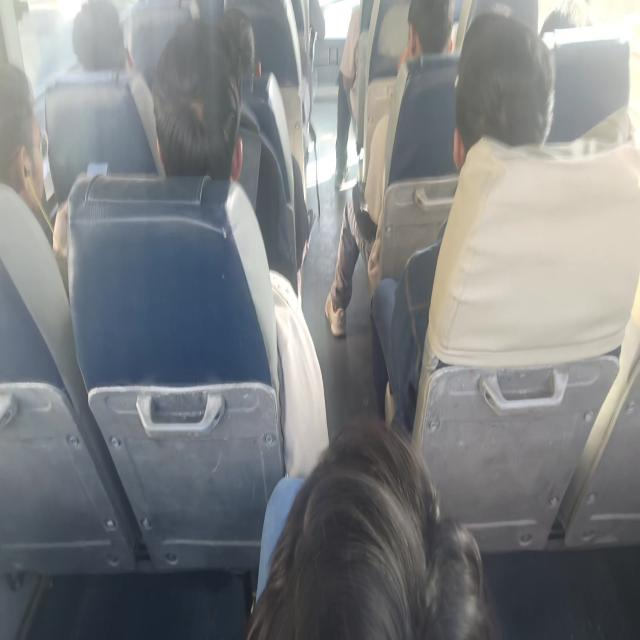person: (248, 424, 530, 640), (459, 21, 566, 148), (167, 54, 244, 176), (0, 66, 53, 210), (74, 0, 138, 71), (209, 6, 264, 77), (398, 3, 456, 69), (539, 0, 584, 30)
